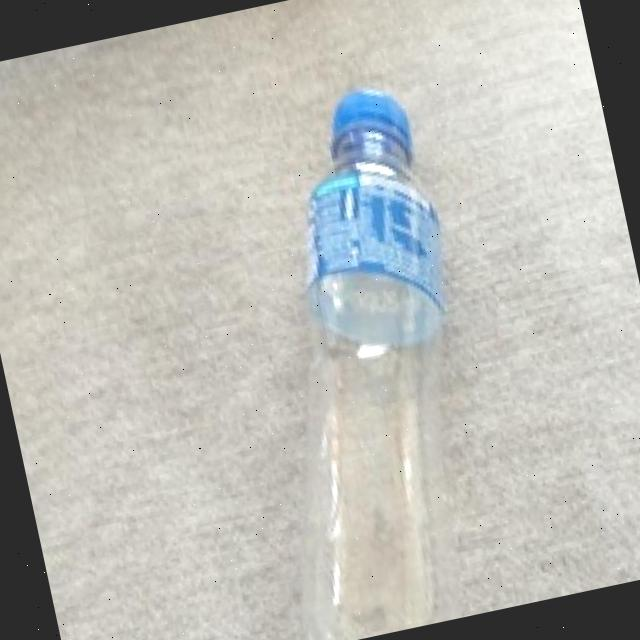trash: (192, 73, 521, 640)
